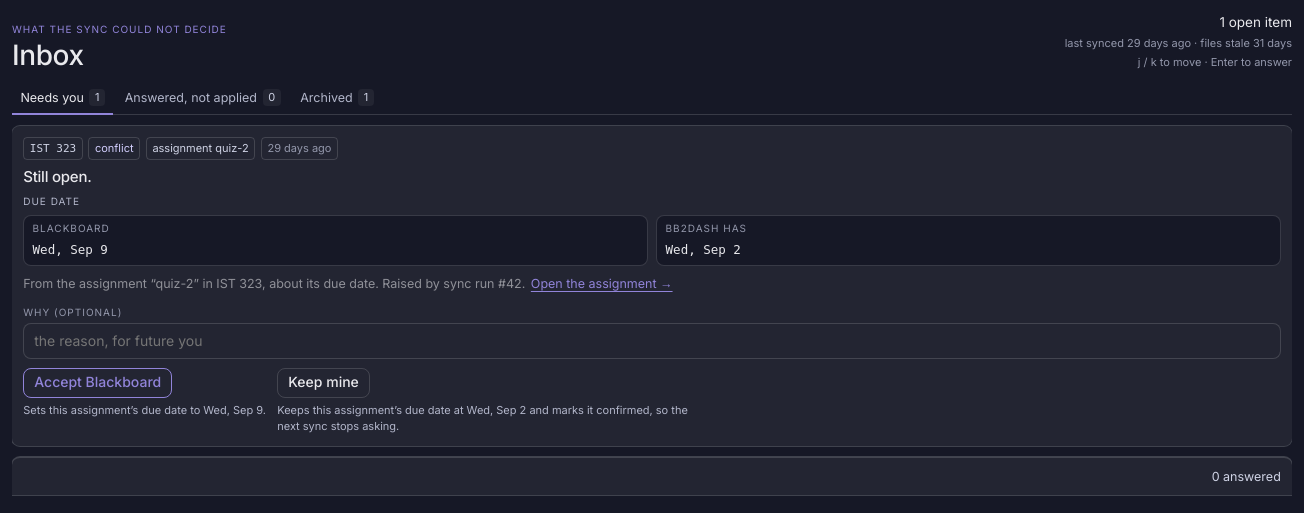
Test: Inbox — archived rows › keeps them under an Archived tab of their own
Click the tab "Archived 1" at (337, 98), box [292,82,382,115]
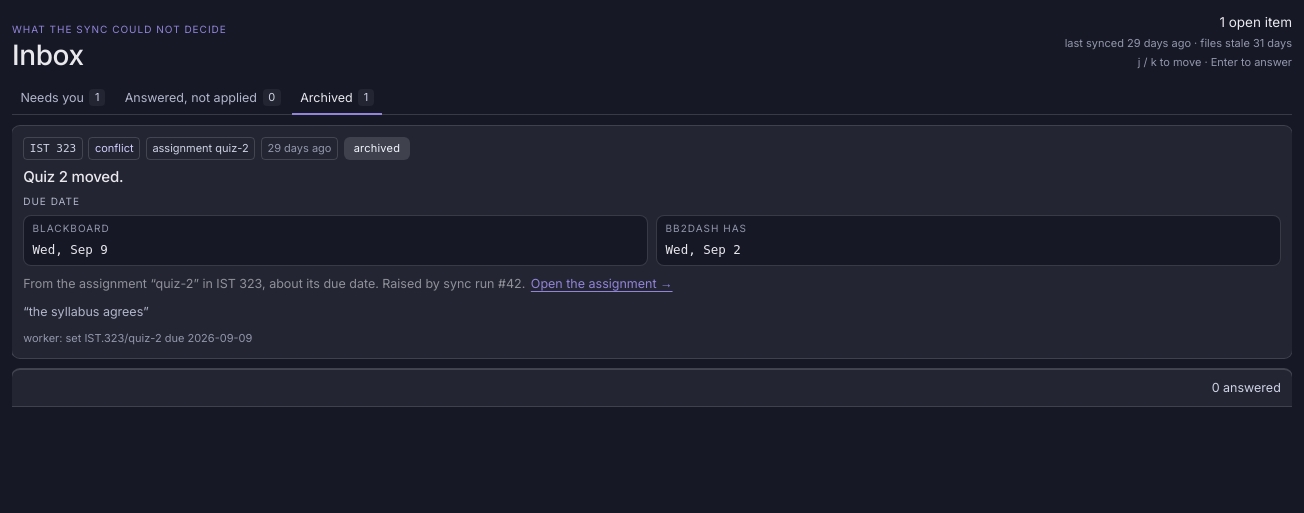
Expected: the heading "Quiz 2 moved." is shown, [23,167,123,186]
Expected: the text "archived" is shown, [344,137,410,160]
